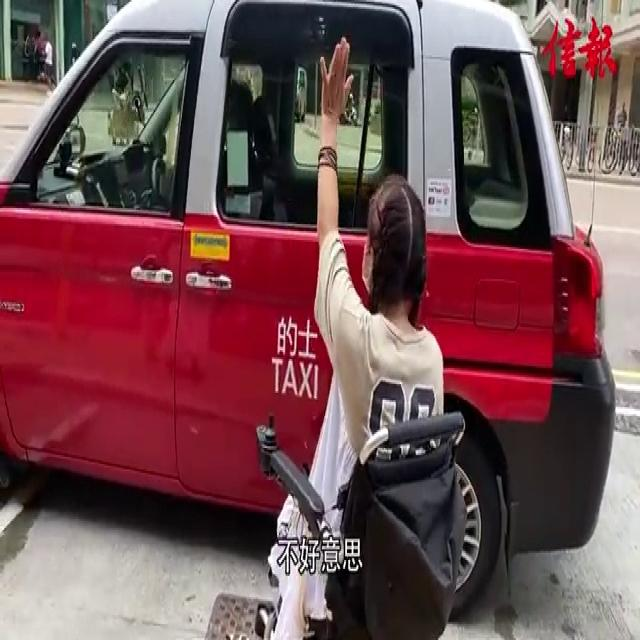wheelchairs: (252, 389, 470, 640)
